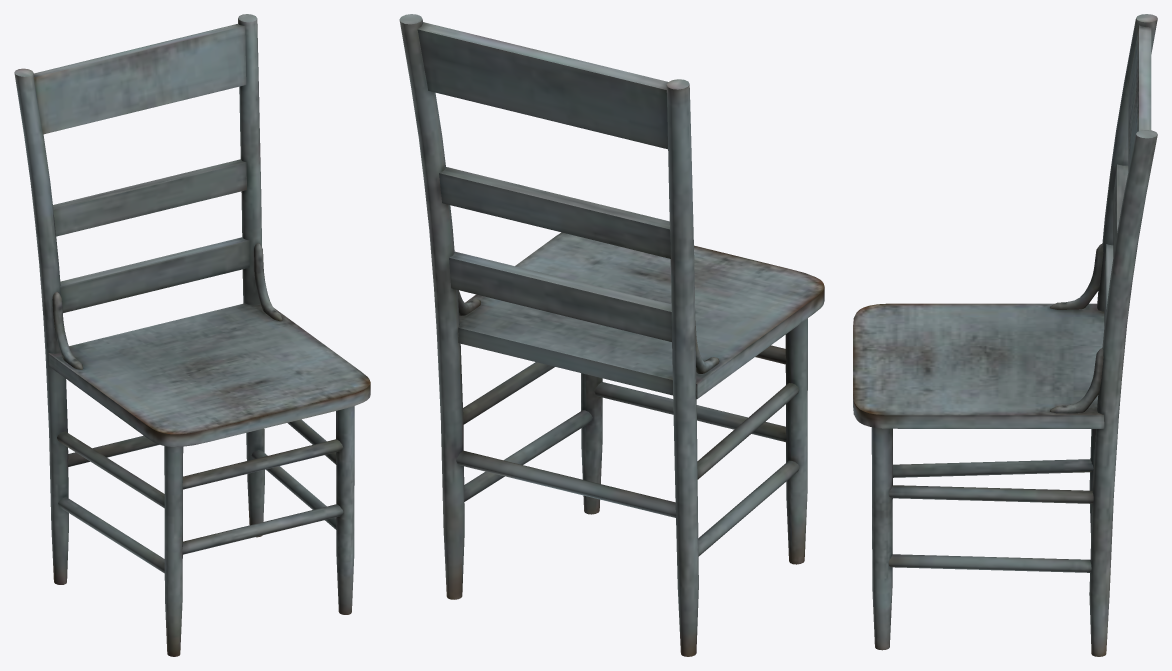
3 renders of one model, left to right at view 1: azimuth 30°, elevation 25°; view 2: azimuth 150°, elevation 25°; view 3: azimuth 270°, elevation 25°, orthographic. The views are drawn at different scales.
Parts seen in each view (by area): view 1: painted_wooden_chair_02; view 2: painted_wooden_chair_02; view 3: painted_wooden_chair_02.
Part boxes in pixels (left/top/right/bottom): painted_wooden_chair_02: left=14, top=14, right=370, bottom=656; painted_wooden_chair_02: left=399, top=14, right=824, bottom=656; painted_wooden_chair_02: left=853, top=14, right=1157, bottom=656.
Bounding box in the file's own units: 0.6394 × 1.26 × 0.6621.
Materials: 1 (1 with a texture image).
